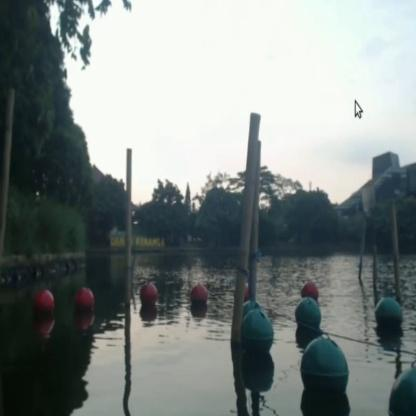green_buoy: (300, 332, 348, 404), (240, 310, 273, 362), (388, 357, 415, 411), (374, 297, 401, 337), (293, 298, 321, 335)
red_buoy: (31, 290, 54, 325), (75, 287, 95, 318), (139, 282, 158, 310), (190, 282, 206, 312), (300, 282, 320, 300)
